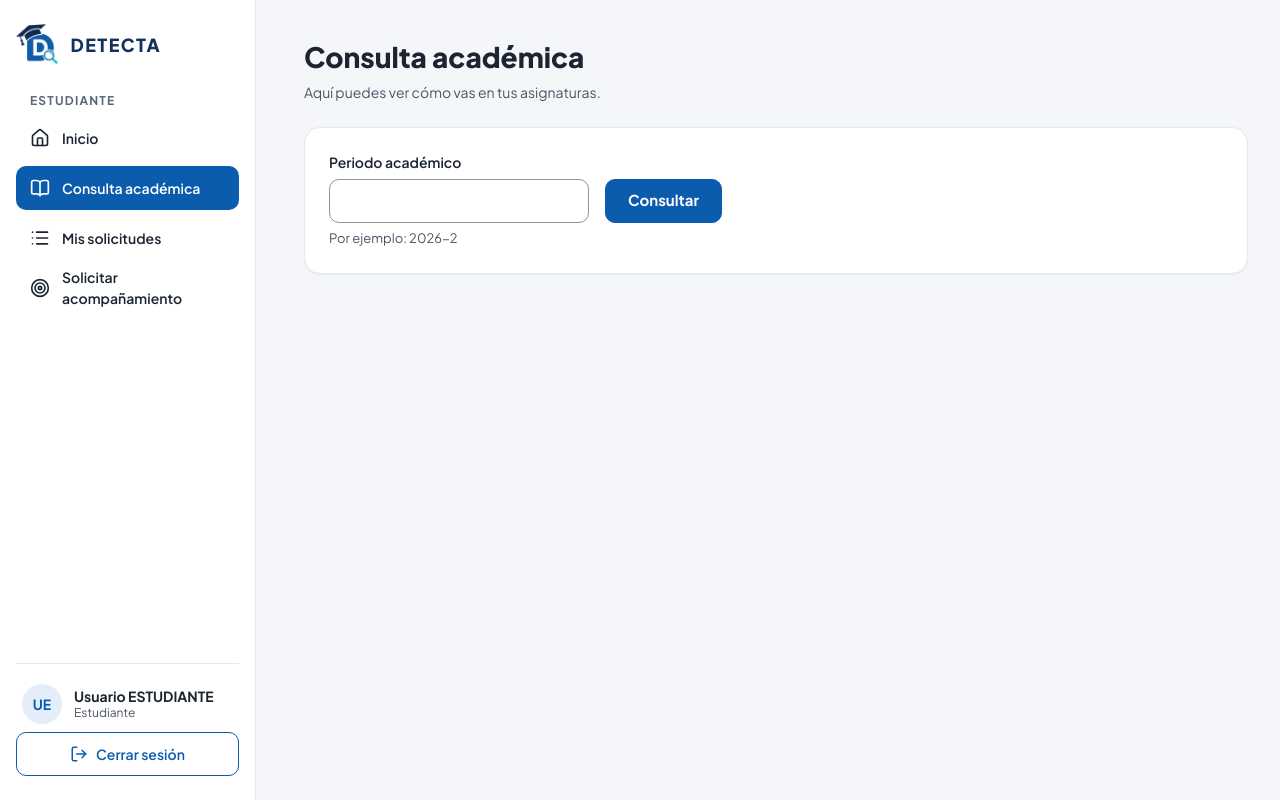
Test case: Consulta académica con cifras y avisos (D4b) › ayuda bajo el título y «Mis asignaturas · {periodo}»
The image size is (1280, 800).
Type "2026-2" into the field labelled "Periodo académico" at [459, 201], box [329, 179, 589, 223]
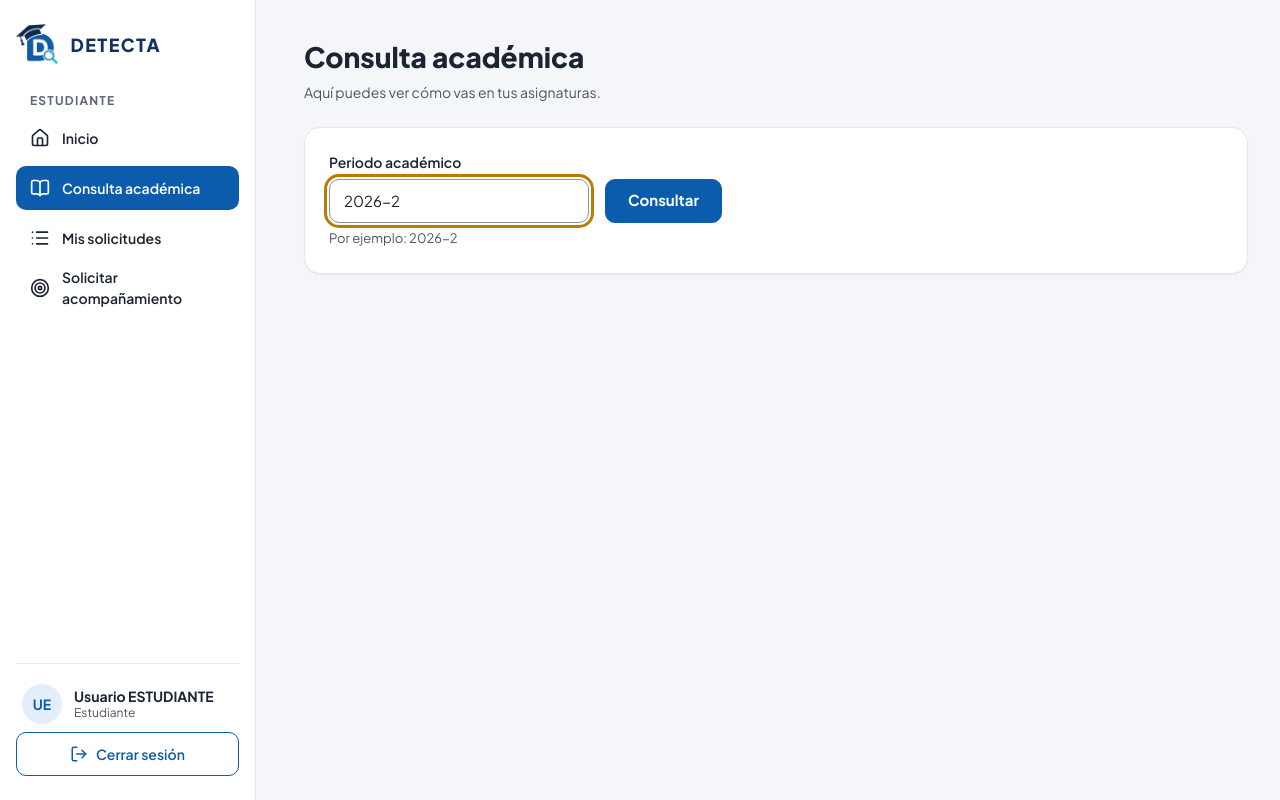
Click the button "Consultar" at [664, 201], box [605, 179, 722, 223]
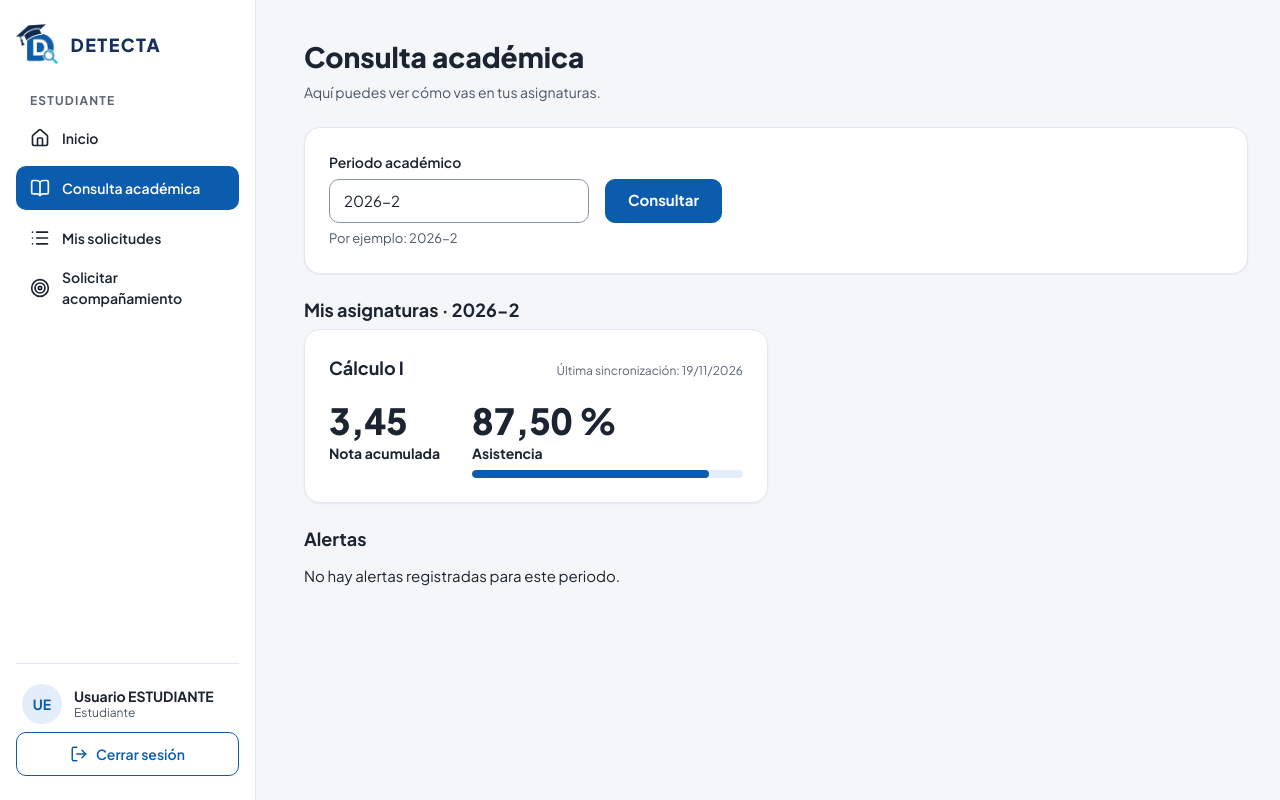
Expected: the text "Aquí puedes ver cómo vas en tus asignaturas." is shown, [304, 83, 601, 101]
Now the heading "Mis asignaturas · 2026-2" is shown, box [304, 298, 519, 321]
